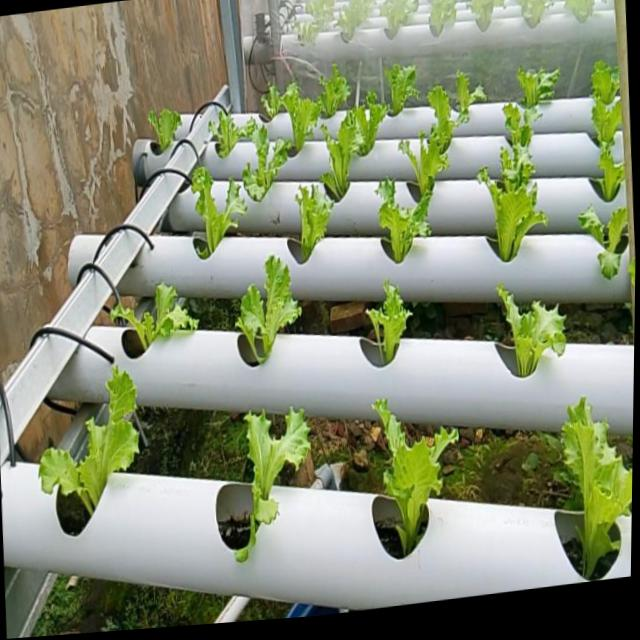Baby: (41, 367, 140, 515), (375, 400, 460, 557), (563, 399, 632, 580), (236, 411, 311, 563), (237, 254, 303, 362), (399, 105, 469, 201), (499, 285, 566, 378), (108, 279, 199, 347), (321, 106, 377, 202), (191, 165, 248, 258), (377, 56, 435, 140), (487, 181, 544, 262), (262, 80, 322, 153), (243, 120, 292, 202), (579, 205, 629, 280), (368, 279, 412, 363), (497, 119, 538, 207), (379, 180, 419, 263), (296, 184, 335, 262), (209, 105, 256, 158), (593, 68, 623, 147), (448, 70, 488, 127), (318, 63, 352, 118), (518, 67, 561, 108), (148, 105, 183, 147)
